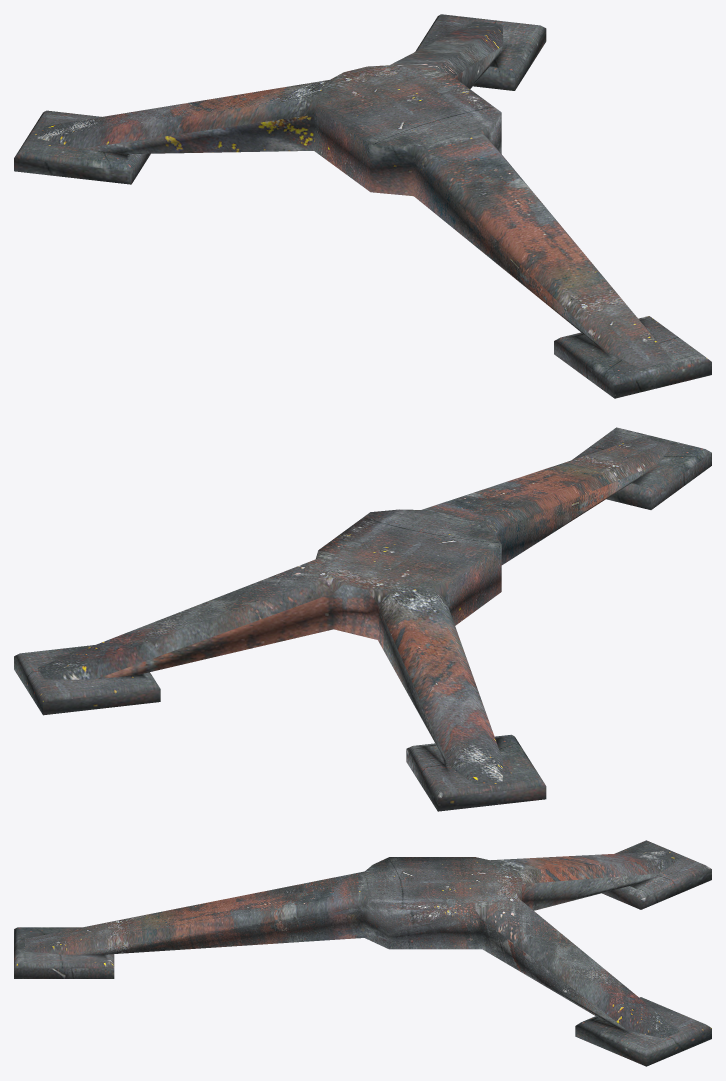
Rendered from Turret_Base.fbx.
3 renders of one model, top to bottom at view 1: azimuth 30°, elevation 25°; view 2: azimuth 150°, elevation 25°; view 3: azimuth 270°, elevation 25°, orthographic. The views are drawn at different scales.
Parts seen in each view (by area): view 1: pCube7; view 2: pCube7; view 3: pCube7.
Boxes of the visible parts, box(x1,y1,x2,y2) form: pCube7: box(14, 14, 711, 398); pCube7: box(14, 427, 711, 811); pCube7: box(14, 840, 711, 1066).
Size of the model in its own units: 4.99 by 0.8256 by 6.87.
